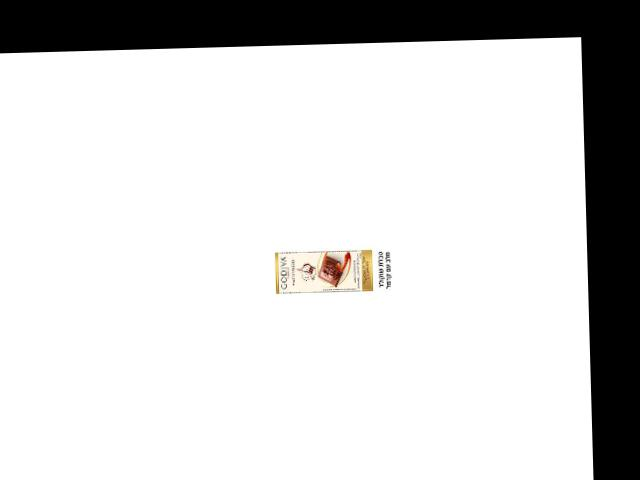chocolate: (272, 246, 376, 293)
